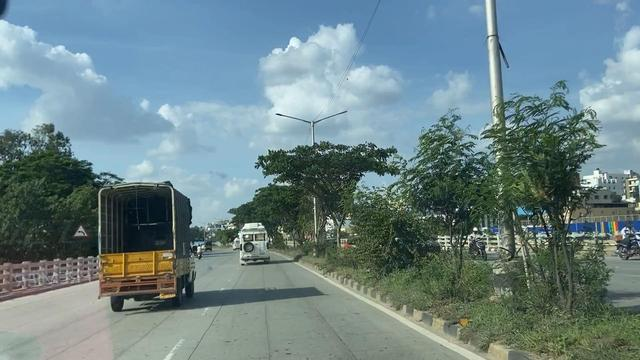HMV: (92, 181, 196, 312), (226, 218, 269, 264)
